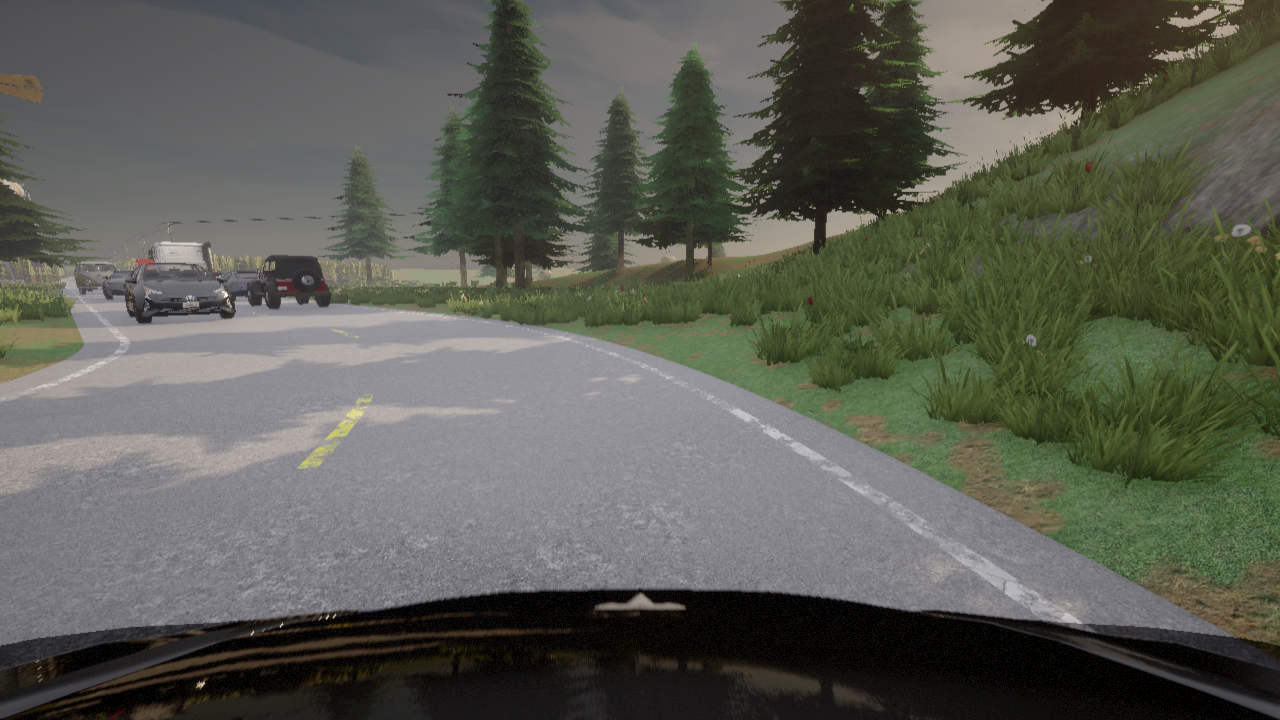cyclist: (0, 588, 1279, 719), (124, 263, 235, 322), (247, 255, 330, 308), (147, 242, 225, 276), (74, 261, 116, 294), (216, 271, 263, 300), (102, 271, 132, 299), (130, 259, 153, 270), (215, 275, 219, 279), (86, 289, 92, 291)
